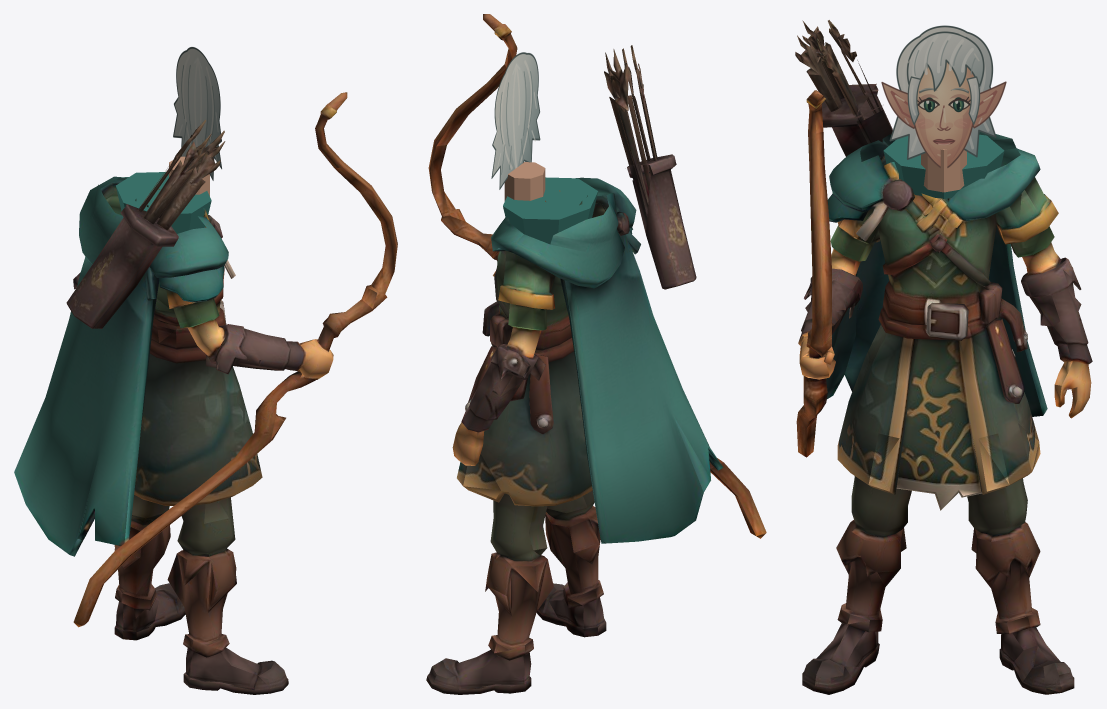
Rendered from candor.glb.
3 renders of one model, left to right at view 1: azimuth 30°, elevation 25°; view 2: azimuth 150°, elevation 25°; view 3: azimuth 270°, elevation 25°, orthographic. The views are drawn at different scales.
Parts seen in each view (by area): view 1: Archer_3D_Body, Head_2D_Back, Collar_3D_Fold; view 2: Archer_3D_Body, Head_2D_Back, Collar_3D_Fold, Neck_3D_Joint; view 3: Archer_3D_Body, Head_2D_Face, Collar_3D_Fold, Neck_3D_Joint.
Boxes of the visible parts, x1,y1,x2,y2 form: Archer_3D_Body: (14,92,397,694); Head_2D_Back: (173,47,221,180); Collar_3D_Fold: (116,172,211,233); Archer_3D_Body: (426,14,766,694); Head_2D_Back: (491,52,540,189); Collar_3D_Fold: (503,177,597,244); Neck_3D_Joint: (504,162,545,201); Archer_3D_Body: (795,20,1092,694); Head_2D_Face: (881,25,1006,167); Collar_3D_Fold: (883,134,1004,198); Neck_3D_Joint: (921,149,966,192).
Size of the model in its own units: 0.5801 by 1.01 by 0.4121.
5 materials, 3 textured.
